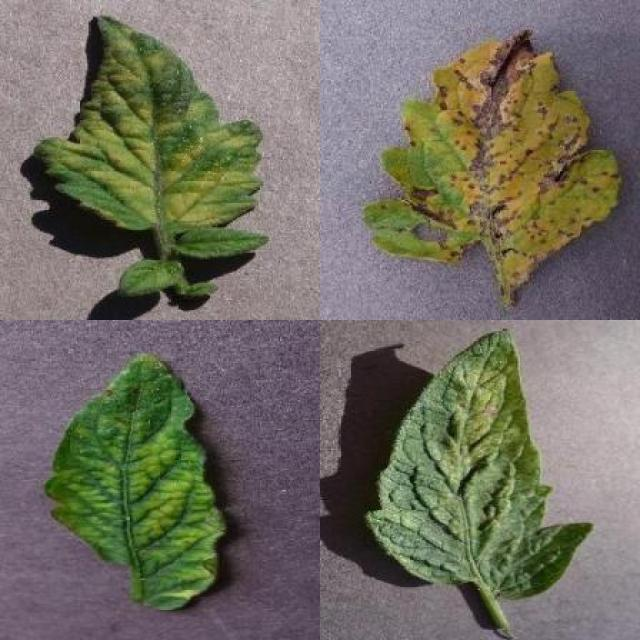Leaf Mold: (35, 12, 272, 259)
Mosaic Virus: (45, 350, 225, 613)
Septoria: (366, 25, 623, 288)
Spider Mites: (367, 324, 594, 600)
